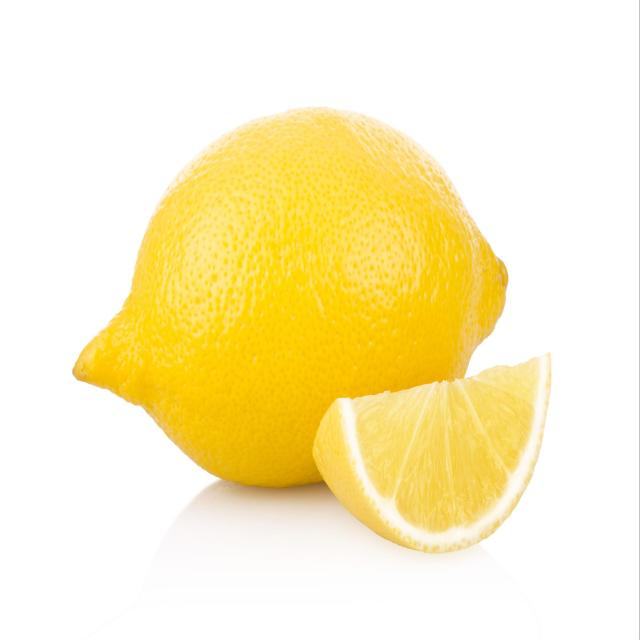lemon: (66, 101, 514, 496), (308, 347, 557, 557)
